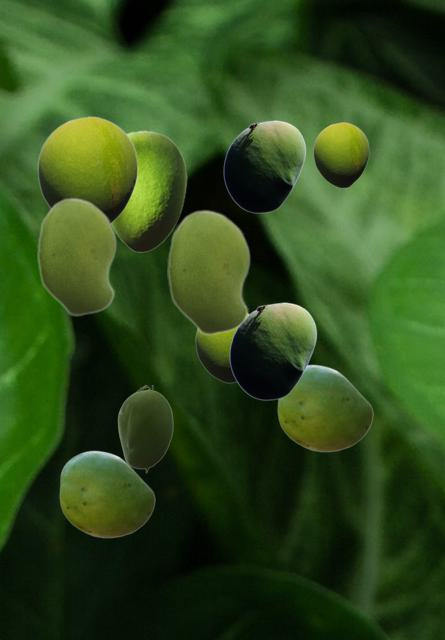green_mango: (37, 116, 137, 223), (167, 209, 250, 335), (37, 197, 116, 316), (113, 130, 186, 251), (229, 302, 316, 399), (277, 364, 372, 451), (59, 450, 154, 537), (223, 120, 305, 212), (117, 385, 172, 472), (313, 122, 368, 187), (195, 330, 235, 382)
